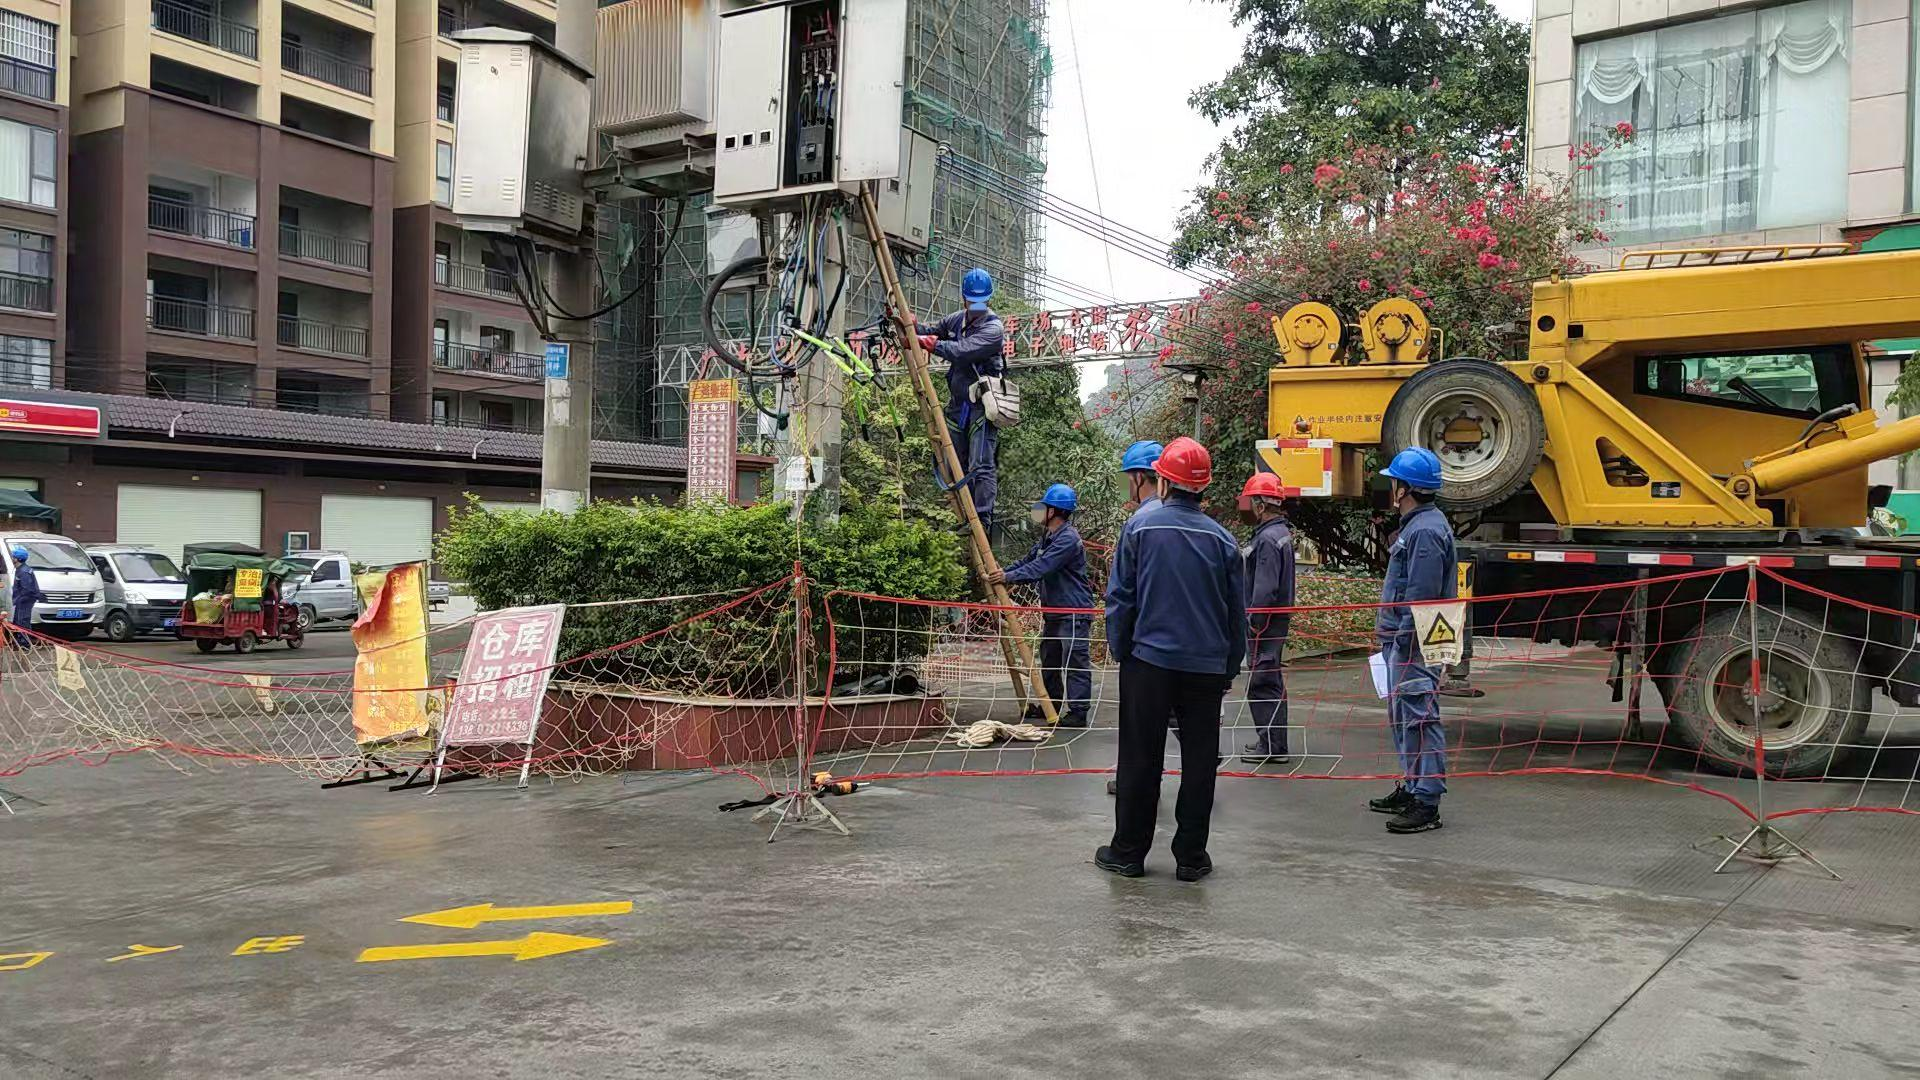halt: (1383, 447, 1447, 508), (1156, 440, 1215, 500), (1120, 440, 1166, 502), (1242, 473, 1291, 527), (1040, 485, 1079, 527), (963, 270, 997, 313), (15, 549, 30, 568)
